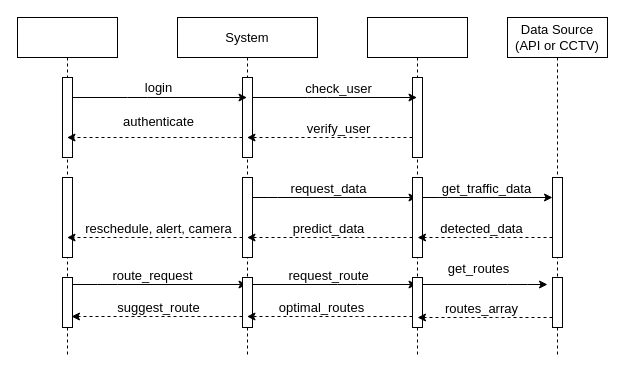
The diagram is 625 pixels wide and 375 high, and some of its shapes have lost their labels. Here are the shapes that lost their labels. From the top down, the centre of each, then its label:
At point (67, 187): "User".
At point (417, 187): "Server".
